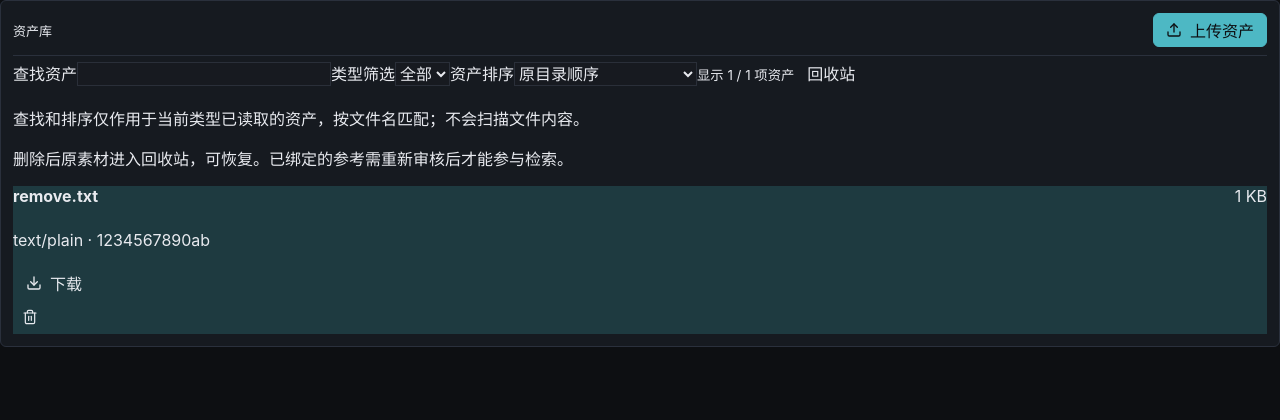
Test case: deletes within the selected novel and preserves selection on failure
Click the button named "删除资产": (30, 317) [13,300,47,334]
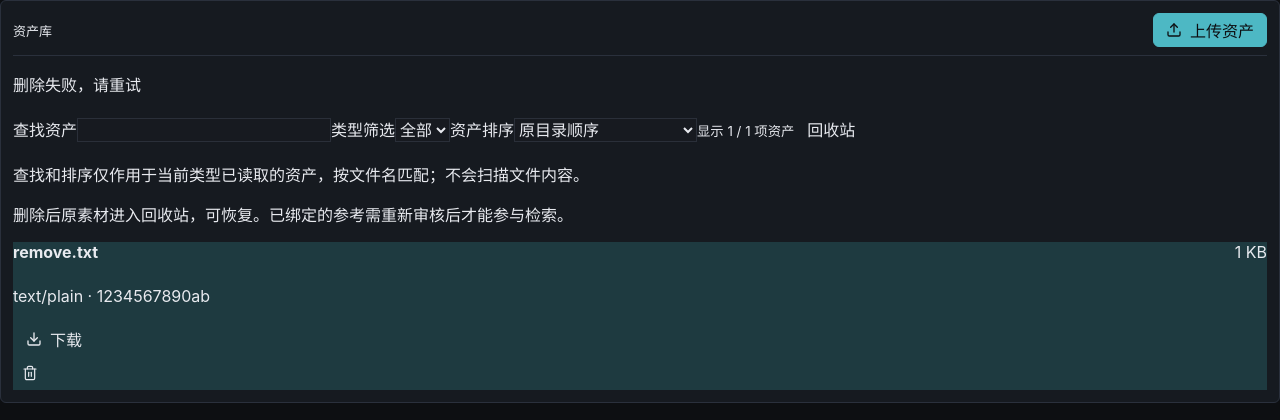
Expected: the text "删除失败，请重试" is shown, [13,75,141,95]
